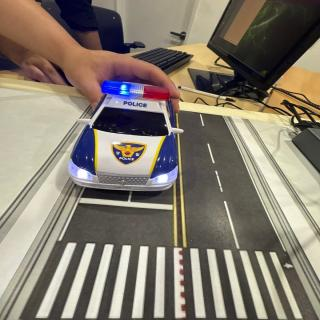Police_car: (68, 82, 183, 190)
